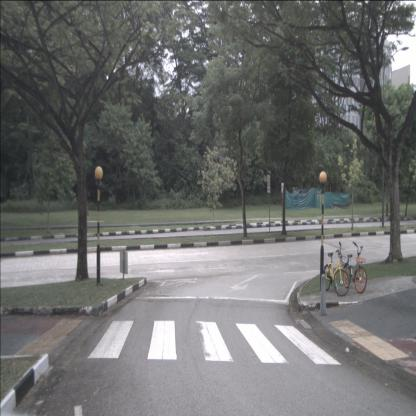vehicle-bicycle: (323, 241, 350, 297), (343, 241, 367, 294)
